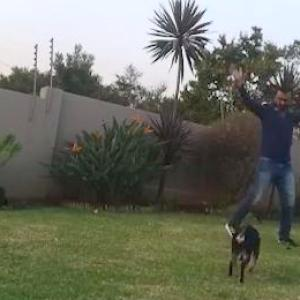takeoff: (226, 64, 299, 248)
